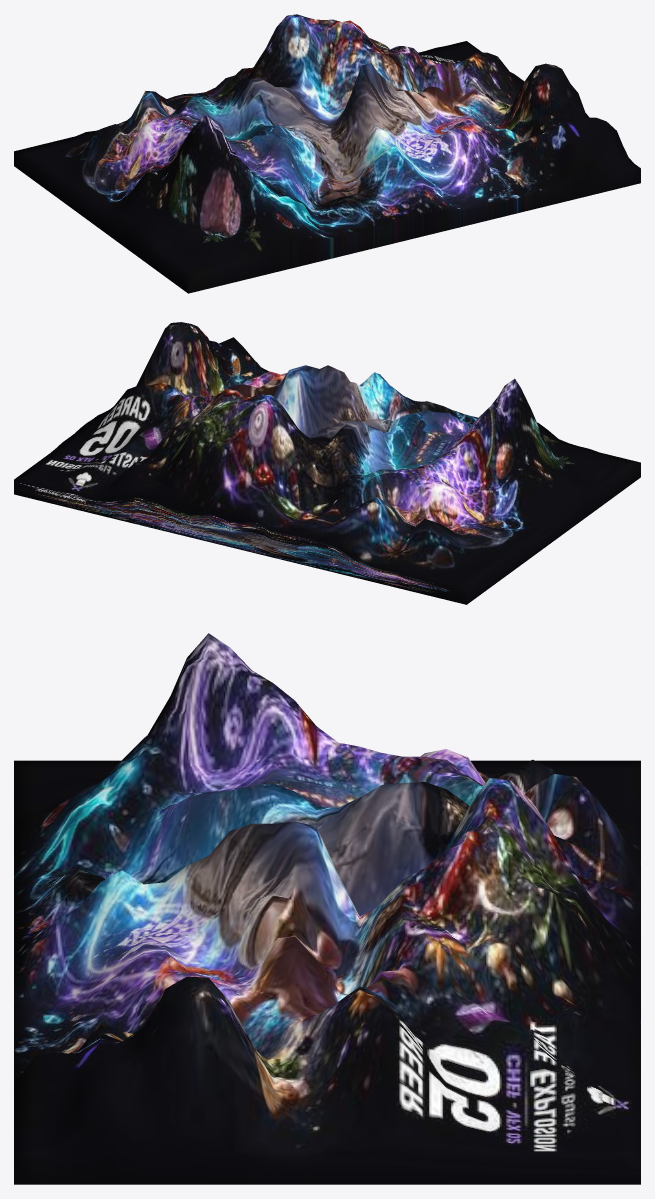
The model's file is CAREER_05_VFX_02_Taste.glb.
The picture shows the model from 3 angles, top to bottom: view 1: azimuth 30°, elevation 25°; view 2: azimuth 150°, elevation 25°; view 3: azimuth 270°, elevation 25°; orthographic projection. The views are drawn at different scales.
Visible parts, largest first — view 1: CAREER_05_VFX_02_Taste; view 2: CAREER_05_VFX_02_Taste; view 3: CAREER_05_VFX_02_Taste.
Boxes of the visible parts, <box> form: CAREER_05_VFX_02_Taste: <box>14,14,640,293</box>; CAREER_05_VFX_02_Taste: <box>14,322,640,604</box>; CAREER_05_VFX_02_Taste: <box>14,633,640,1184</box>.
Bounding box in the file's own units: 2 × 0.51 × 1.33.
1 material, 1 textured.
